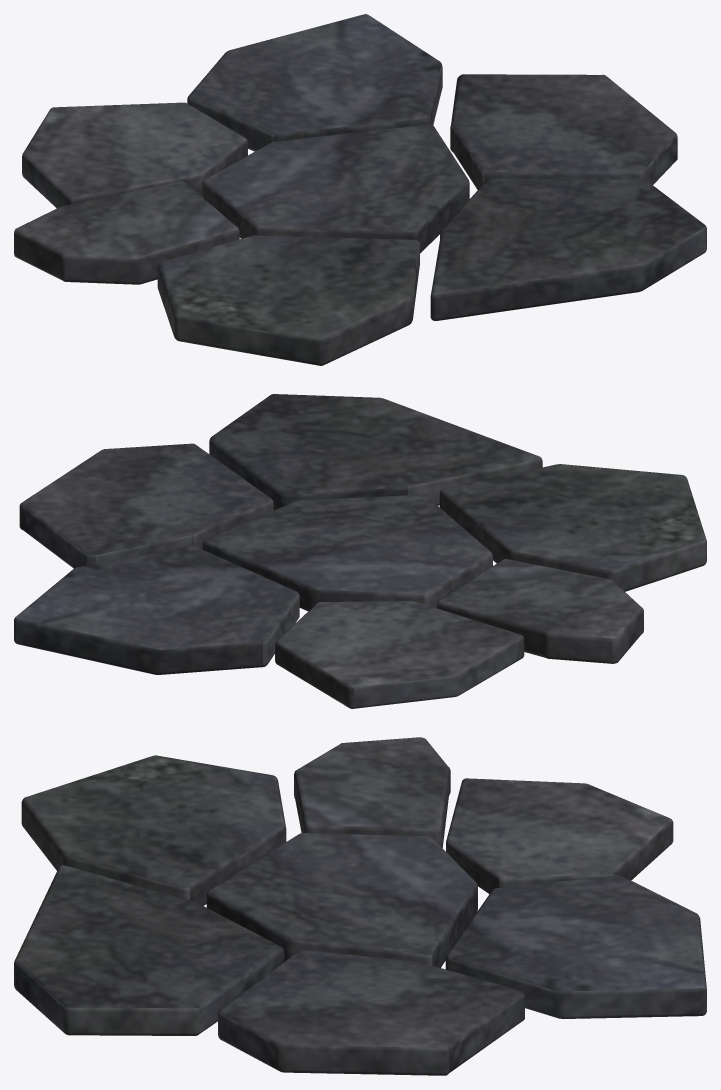
Rendered from stone7big.glb.
3 renders of one model, top to bottom at view 1: azimuth 30°, elevation 25°; view 2: azimuth 150°, elevation 25°; view 3: azimuth 270°, elevation 25°, orthographic. The views are drawn at different scales.
Parts seen in each view (by area): view 1: Stone_Path.004; view 2: Stone_Path.004; view 3: Stone_Path.004.
Boxes of the visible parts, x1,y1,x2,y2 form: Stone_Path.004: (14,14,706,365); Stone_Path.004: (14,394,706,708); Stone_Path.004: (14,737,706,1075).
Size of the model in its own units: 1.61 by 0.0728 by 1.51.
Materials: 1 (1 with a texture image).
